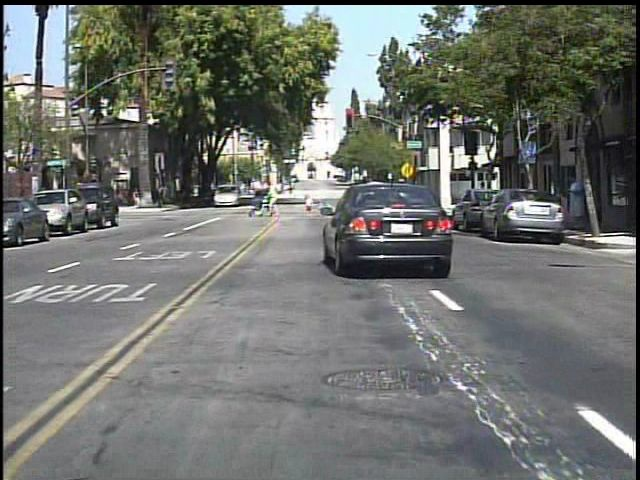person: (561, 171, 584, 235), (266, 178, 284, 219), (155, 183, 169, 211), (131, 186, 142, 212)
